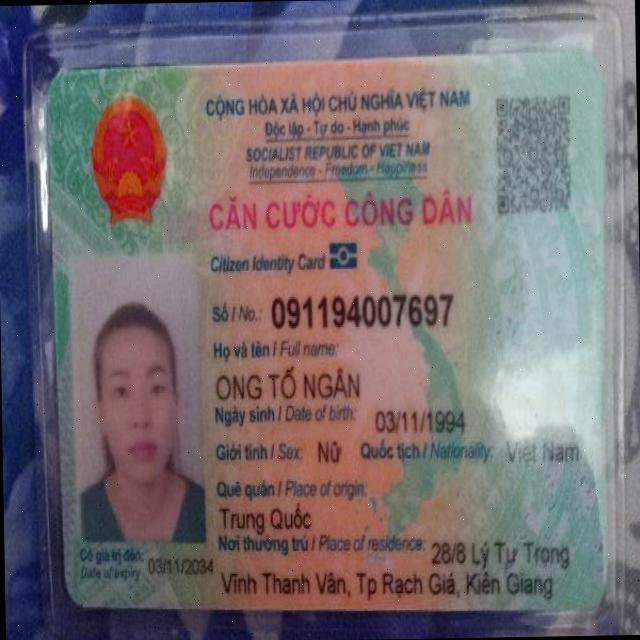current_place: (218, 557, 559, 612), (427, 534, 575, 574)
dob: (370, 405, 469, 437)
expire_date: (144, 555, 217, 577)
gender: (312, 433, 346, 469)
id: (266, 289, 459, 335)
name: (211, 364, 366, 406)
nationality: (502, 430, 583, 471)
origin_place: (214, 501, 317, 537)
qr: (487, 91, 581, 222)
